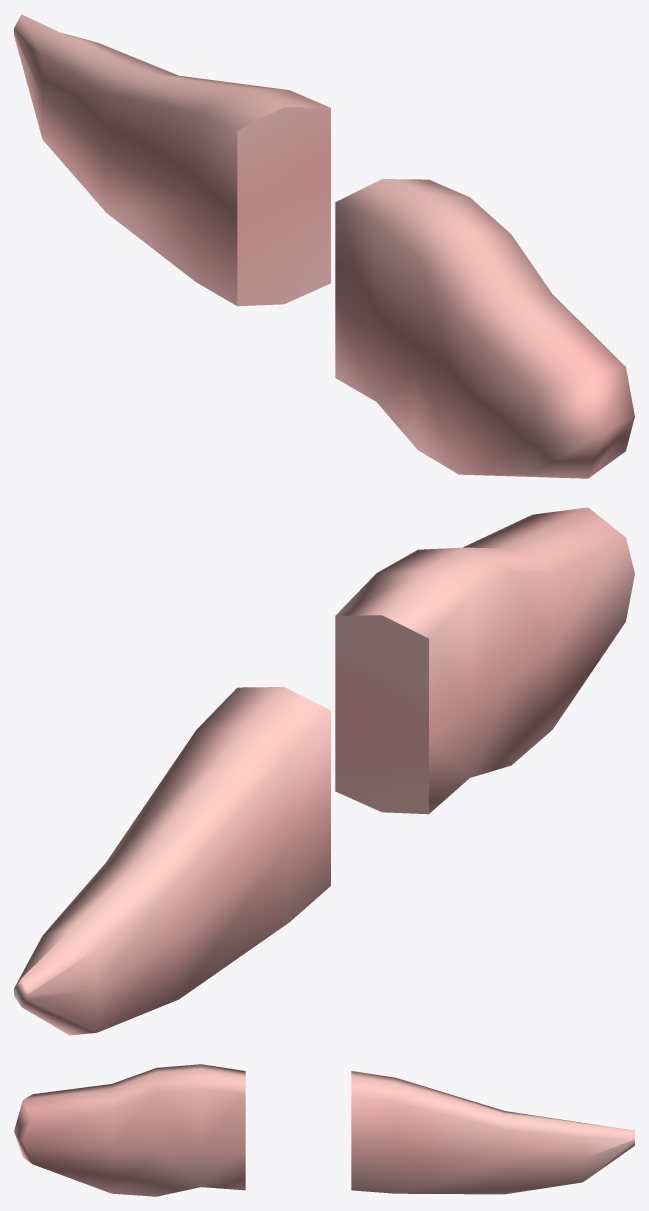
The model's file is sasami_kireteru01.fbx.
The picture shows the model from 3 angles, top to bottom: view 1: azimuth 30°, elevation 25°; view 2: azimuth 150°, elevation 25°; view 3: azimuth 270°, elevation 25°; orthographic projection. The views are drawn at different scales.
Parts seen in each view (by area): view 1: polySurface1, polySurface2; view 2: polySurface1, polySurface2; view 3: polySurface1, polySurface2.
Part boxes in pixels (x1=…): polySurface1: x1=335, y1=179, x2=634, y2=478; polySurface2: x1=14, y1=14, x2=330, y2=306; polySurface1: x1=335, y1=507, x2=634, y2=814; polySurface2: x1=14, y1=687, x2=330, y2=1035; polySurface1: x1=14, y1=1064, x2=245, y2=1196; polySurface2: x1=351, y1=1071, x2=634, y2=1194.
Bounding box in the file's own units: 1.09 × 2.48 × 11.62.
Materials: 1 (1 with a texture image).
